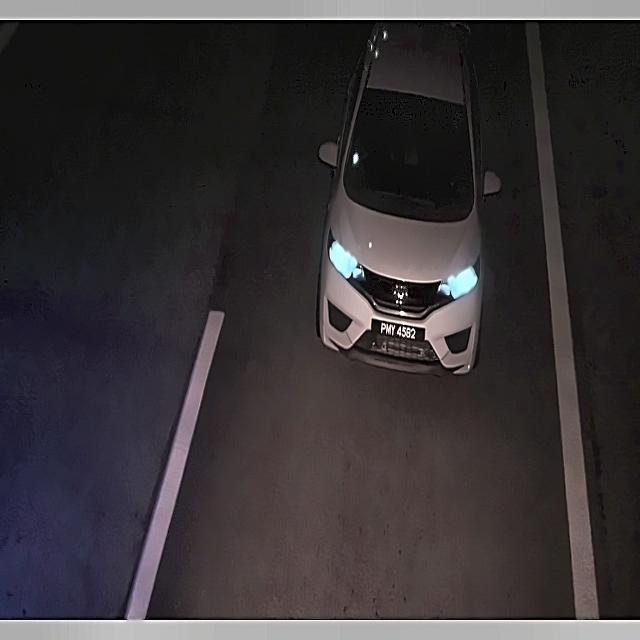car: (367, 311, 432, 352)
